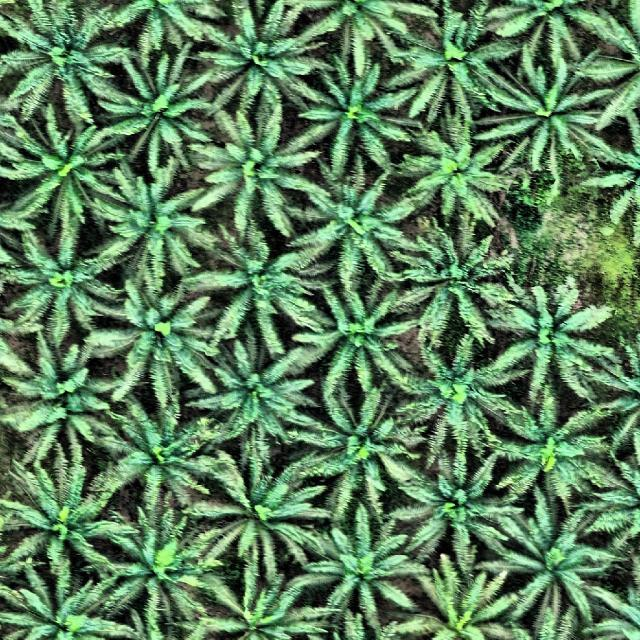Kelapa_Sawit: (486, 503, 611, 611), (394, 345, 518, 453), (402, 222, 509, 347), (492, 284, 610, 394), (208, 460, 316, 580), (486, 64, 602, 175), (296, 168, 406, 282), (17, 222, 117, 347), (309, 392, 419, 503), (112, 398, 212, 520), (306, 280, 412, 384), (11, 12, 117, 112), (213, 124, 314, 228), (211, 240, 316, 340), (12, 472, 111, 578), (218, 345, 310, 458), (103, 526, 211, 622), (392, 559, 520, 640), (117, 287, 213, 393), (403, 450, 499, 555), (312, 66, 404, 175), (15, 346, 106, 456), (500, 403, 603, 500), (18, 128, 112, 233), (311, 518, 416, 612), (223, 12, 325, 108), (114, 64, 206, 158), (198, 576, 307, 640), (303, 1, 436, 51), (11, 584, 105, 640)
